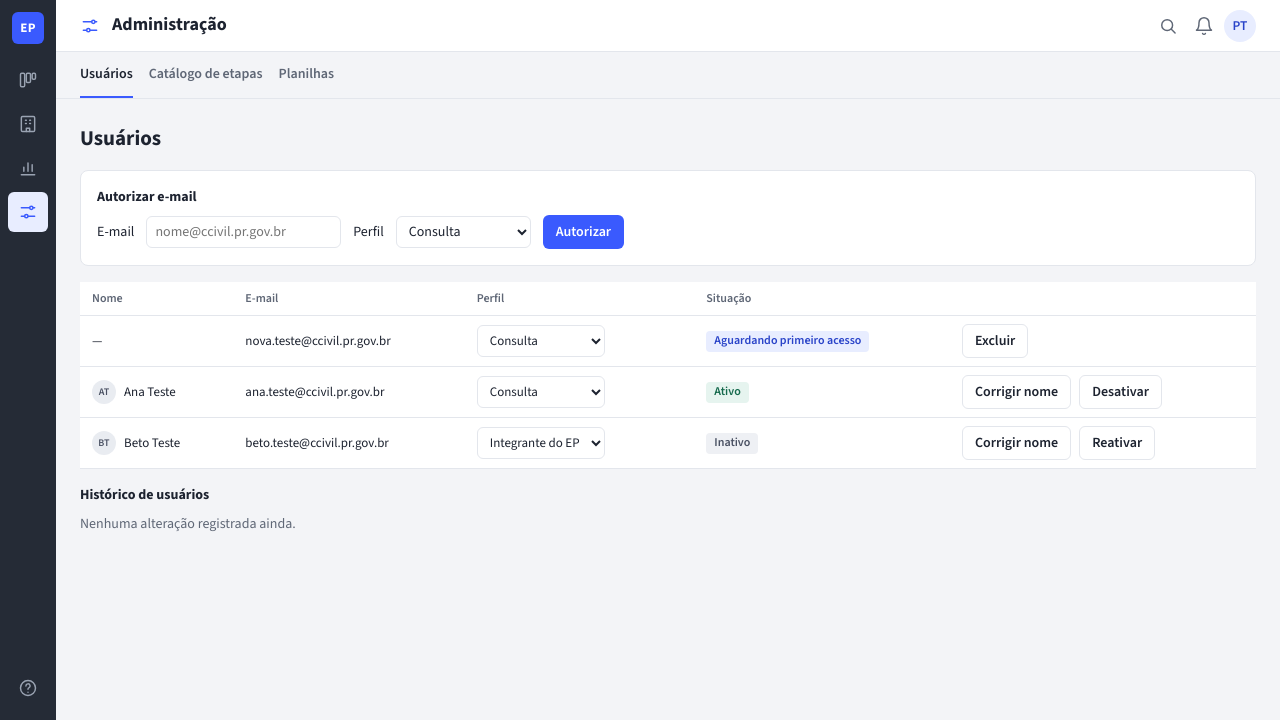
it: desativa um usuário ativo
Check: the table is shown, box [80,282,1256,469]
Click the button "Desativar" at (1121,392), box [1079,375,1162,409]
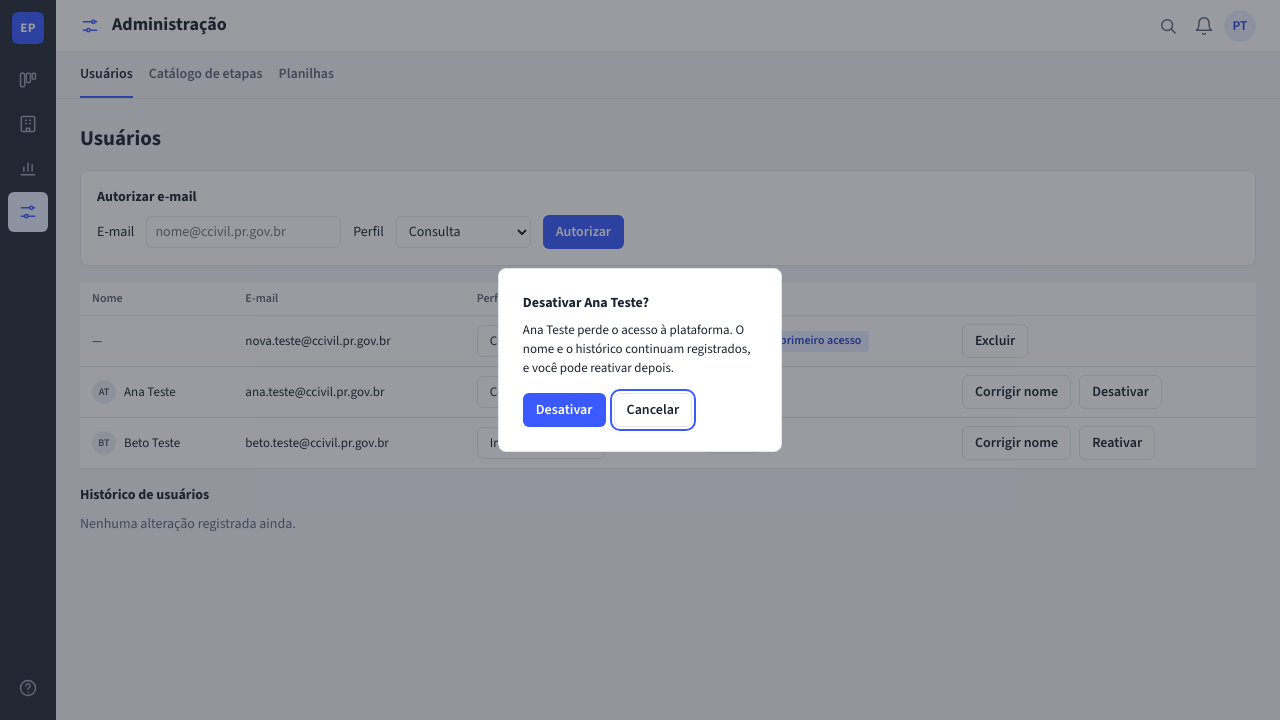
Click the button "Desativar" below "Desativar Ana Teste?" at (564,410), box [523,393,606,427]
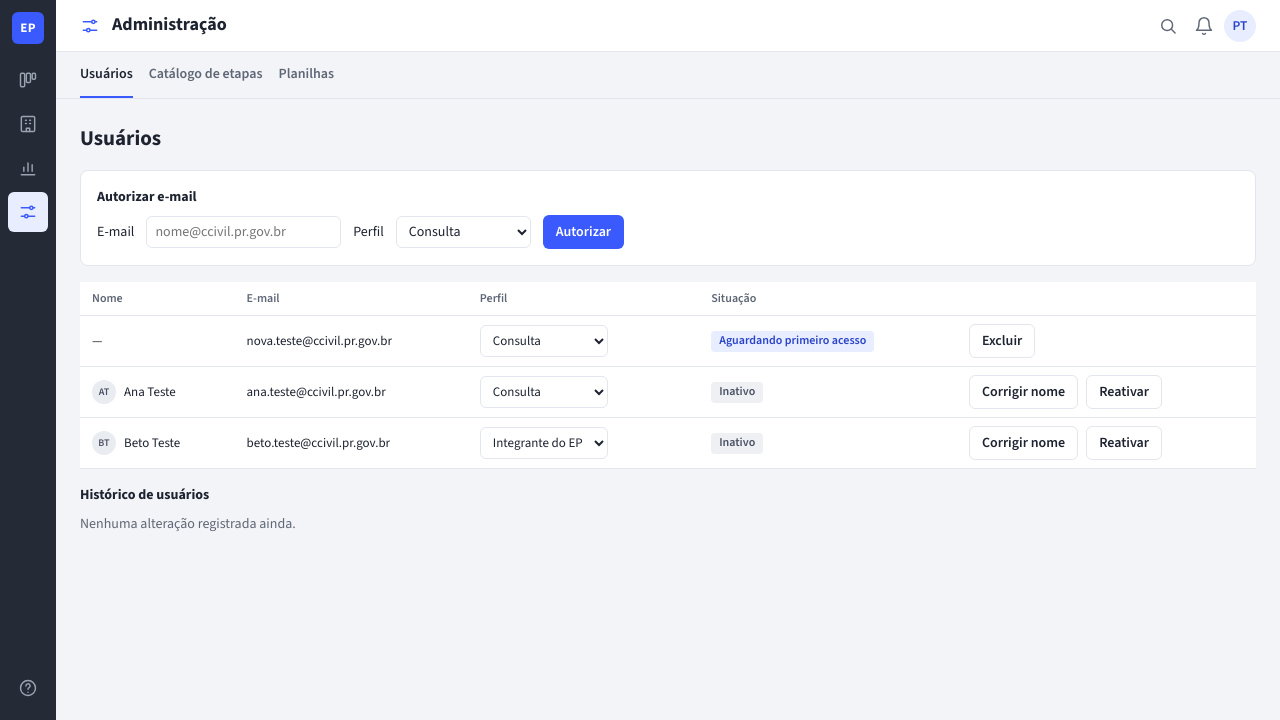
Check: the text "Inativo" in the row of "Ana Teste" is shown, box [719,383,755,400]
